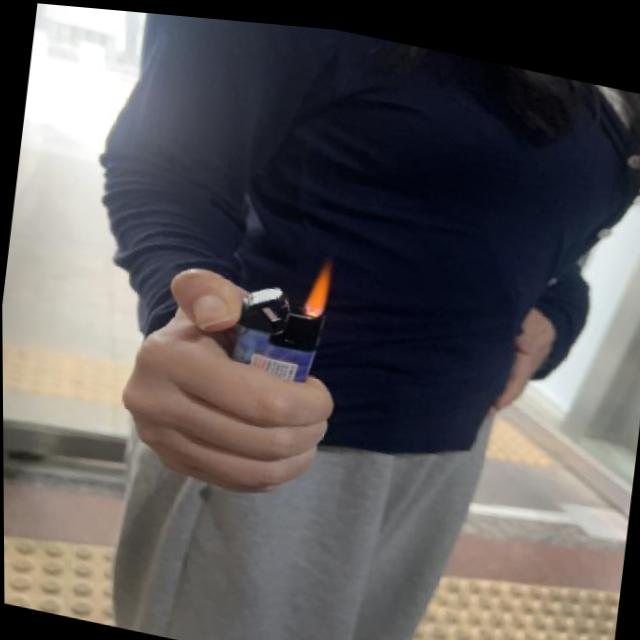Fire: (298, 251, 335, 314)
